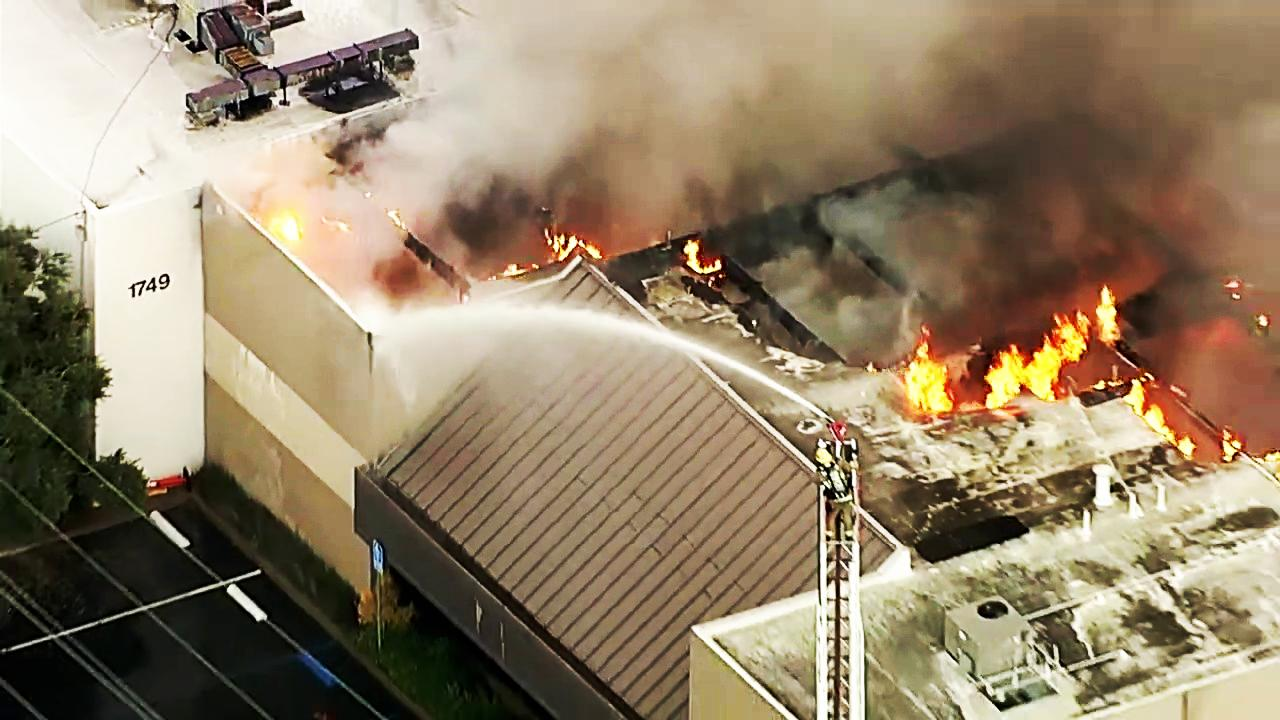fire: (895, 330, 1066, 412), (1041, 284, 1137, 358)
smoke: (534, 47, 1059, 224)
